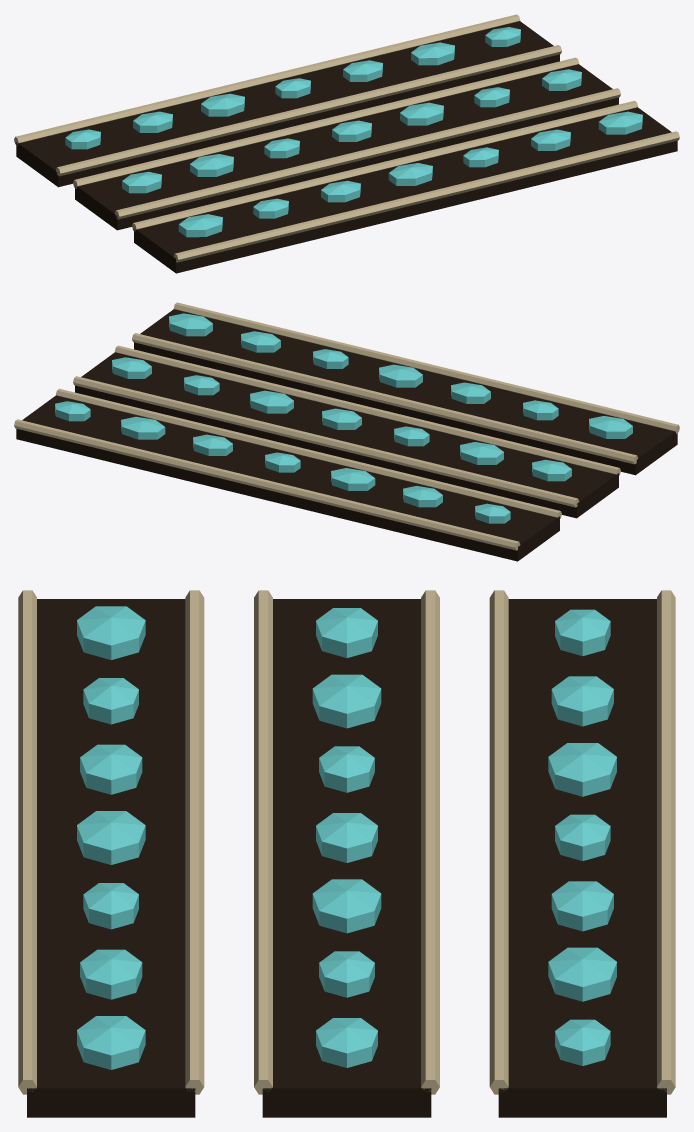
Rendered from farm_photosynthetic_a.obj.
The picture shows the model from 3 angles, top to bottom: view 1: azimuth 30°, elevation 25°; view 2: azimuth 150°, elevation 25°; view 3: azimuth 270°, elevation 25°; orthographic projection. The views are drawn at different scales.
Visible parts, largest first — view 1: bed_2, bed_0, bed_1, bed_edge_1, bed_edge_0, bed_edge_2, leaf_2_0, leaf_2_6, leaf_0_5, leaf_2_3, leaf_1_4, leaf_0_2 (+15 smaller); view 2: bed_0, bed_1, bed_2, bed_edge_2, bed_edge_0, bed_edge_1, leaf_0_5, leaf_2_6, leaf_1_4, leaf_2_3, leaf_0_2, leaf_1_1 (+15 smaller); view 3: bed_0, bed_2, bed_1, bed_edge_0, bed_edge_2, bed_edge_1, leaf_1_1, leaf_1_4, leaf_0_5, leaf_2_0, leaf_2_3, leaf_2_6 (+15 smaller).
Boxes of the visible parts, x1,y1,x2,y2 form: bed_2: (134, 107, 677, 273); bed_0: (16, 21, 559, 187); bed_1: (75, 64, 618, 230); bed_edge_1: (73, 57, 620, 219); bed_edge_0: (14, 14, 561, 176); bed_edge_2: (132, 100, 679, 262); leaf_2_0: (178, 214, 222, 237); leaf_2_6: (598, 111, 642, 134); leaf_0_5: (411, 42, 454, 65); leaf_2_3: (388, 163, 432, 185); leaf_1_4: (400, 102, 443, 125); leaf_0_2: (201, 93, 244, 116); bed_0: (16, 395, 559, 561); bed_1: (75, 352, 618, 518); bed_2: (134, 309, 677, 475); bed_edge_2: (132, 302, 679, 464); bed_edge_0: (14, 388, 561, 550); bed_edge_1: (73, 345, 620, 507); leaf_0_5: (121, 416, 165, 439); leaf_2_6: (169, 313, 212, 336); leaf_1_4: (250, 390, 293, 413); leaf_2_3: (379, 364, 422, 387); leaf_0_2: (331, 468, 375, 490); leaf_1_1: (460, 442, 503, 464); bed_0: (498, 599, 666, 1117); bed_2: (27, 599, 195, 1117); bed_1: (262, 599, 431, 1117); bed_edge_0: (489, 590, 675, 1094); bed_edge_2: (18, 590, 204, 1094); bed_edge_1: (254, 590, 439, 1094); leaf_1_1: (312, 674, 381, 728); leaf_1_4: (312, 879, 381, 933); leaf_0_5: (548, 947, 616, 1001); leaf_2_0: (77, 606, 145, 659); leaf_2_3: (77, 811, 145, 864); leaf_2_6: (77, 1016, 145, 1069).
Bounding box in the file's own units: 8.6 × 0.46 × 4.88.
